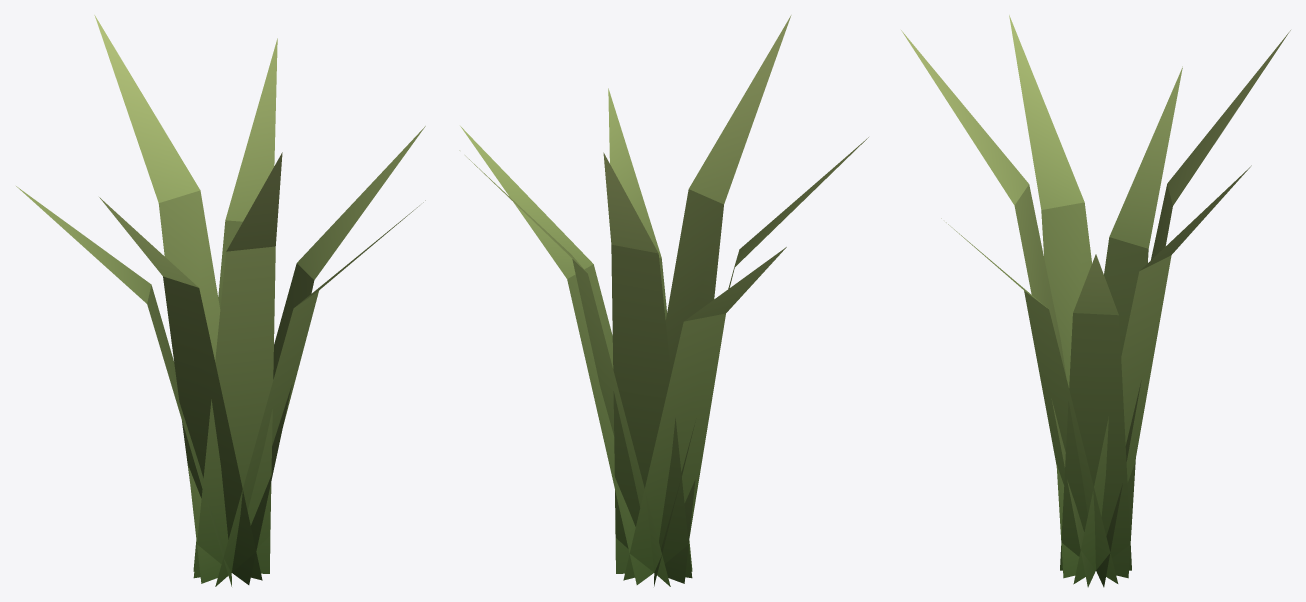
Rendered from node-fiber.glb.
The picture shows the model from 3 angles, left to right: view 1: azimuth 30°, elevation 25°; view 2: azimuth 150°, elevation 25°; view 3: azimuth 270°, elevation 25°; orthographic projection. The views are drawn at different scales.
Parts seen in each view (by area): view 1: 0_fiber; view 2: 0_fiber; view 3: 0_fiber.
Part boxes in pixels (x1,y1,x2,y2): 0_fiber: [16, 15, 425, 586]; 0_fiber: [459, 15, 868, 586]; 0_fiber: [901, 15, 1290, 587].
Size of the model in its own units: 0.5808 by 0.7499 by 0.5116.
